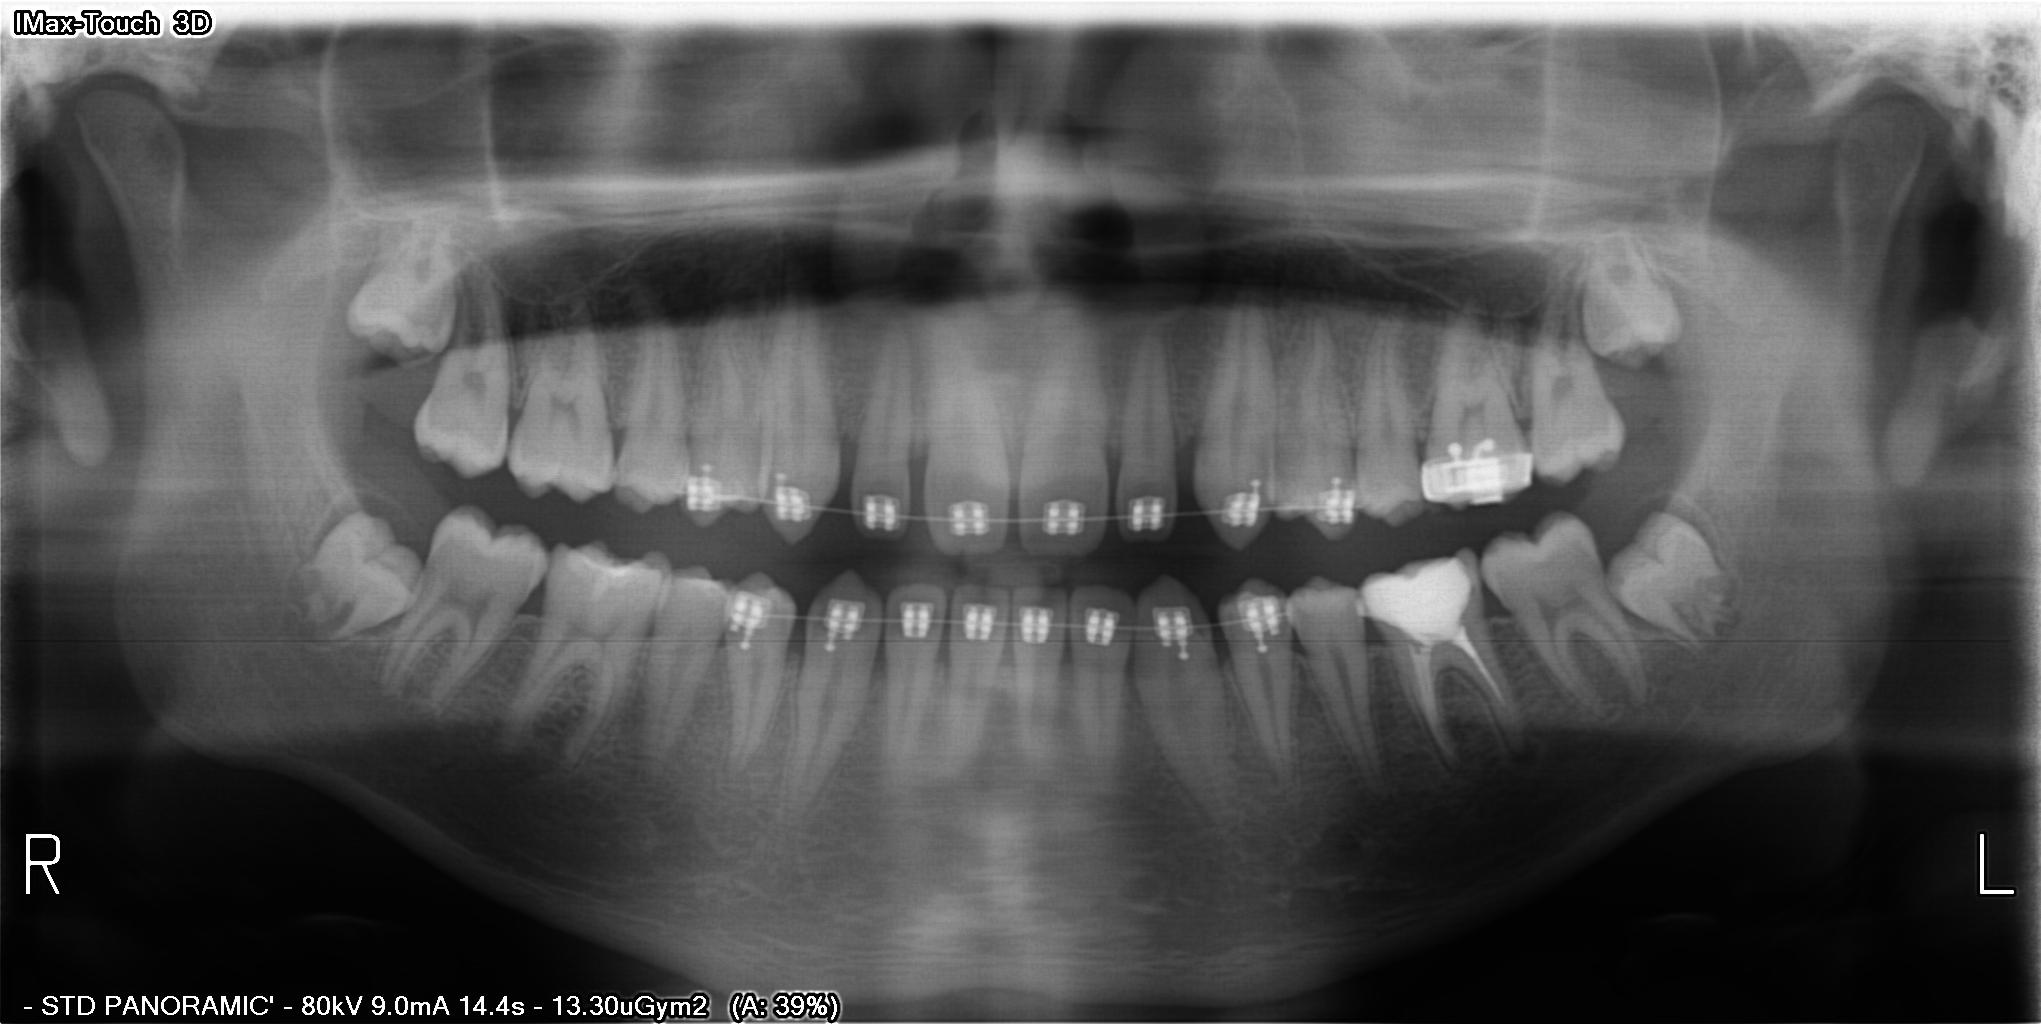Çürük: (1355, 549, 1486, 648)
